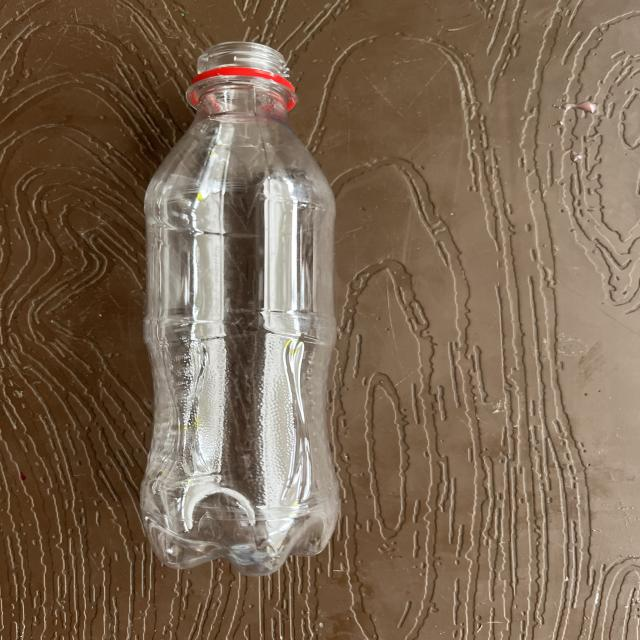PET_With_Cap: (140, 42, 343, 578)
